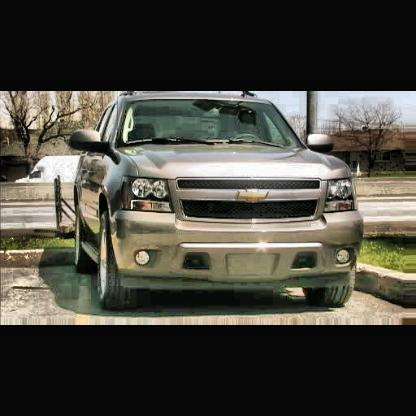Chevrolet Avalanche Crew Cab 2012: (67, 93, 364, 315)
